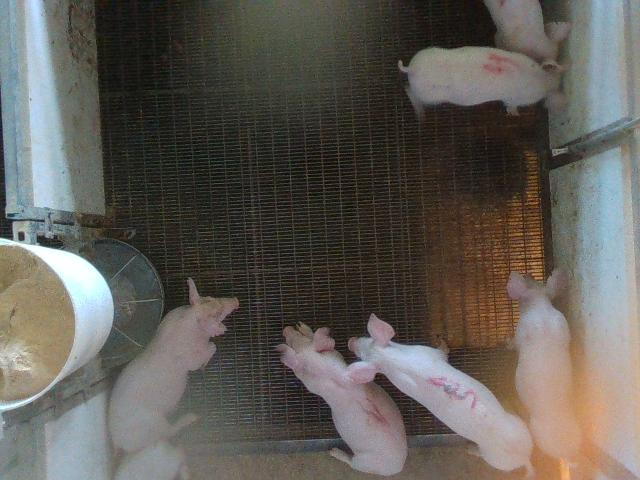pig-1: (276, 322, 408, 474)
pig-3: (349, 314, 532, 476)
pig-4: (399, 46, 562, 115)
